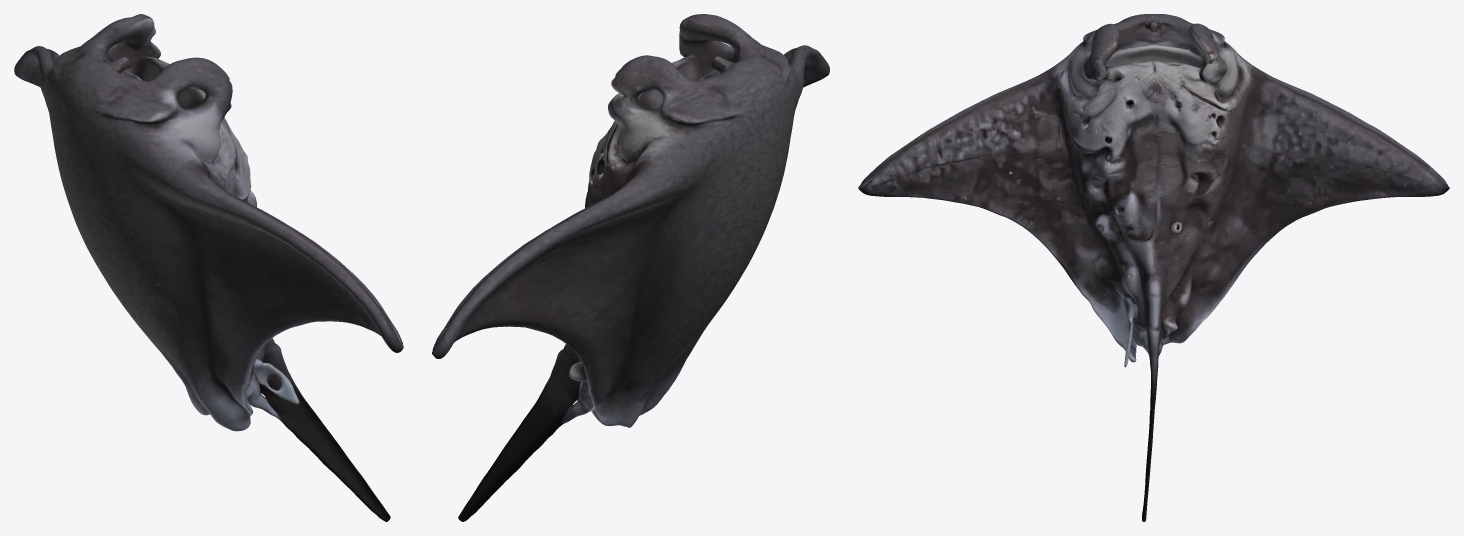
Rendered from Manta.glb.
The picture shows the model from 3 angles, left to right: view 1: azimuth 30°, elevation 25°; view 2: azimuth 150°, elevation 25°; view 3: azimuth 270°, elevation 25°; orthographic projection. The views are drawn at different scales.
Visible parts, largest first — view 1: tripo_node_8af66b8e-769b-45bf-95da-71de44cbffd6; view 2: tripo_node_8af66b8e-769b-45bf-95da-71de44cbffd6; view 3: tripo_node_8af66b8e-769b-45bf-95da-71de44cbffd6.
Part boxes in pixels (x1=…): tripo_node_8af66b8e-769b-45bf-95da-71de44cbffd6: x1=14, y1=14, x2=403, y2=521; tripo_node_8af66b8e-769b-45bf-95da-71de44cbffd6: x1=432, y1=14, x2=829, y2=521; tripo_node_8af66b8e-769b-45bf-95da-71de44cbffd6: x1=858, y1=14, x2=1449, y2=521.
Size of the model in its own units: 0.4757 by 0.7672 by 1.
Materials: 1 (1 with a texture image).
